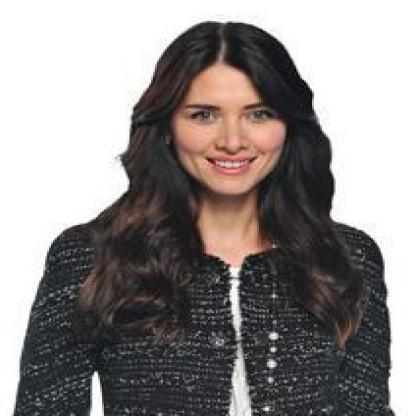long-hair: (116, 196, 339, 240)
